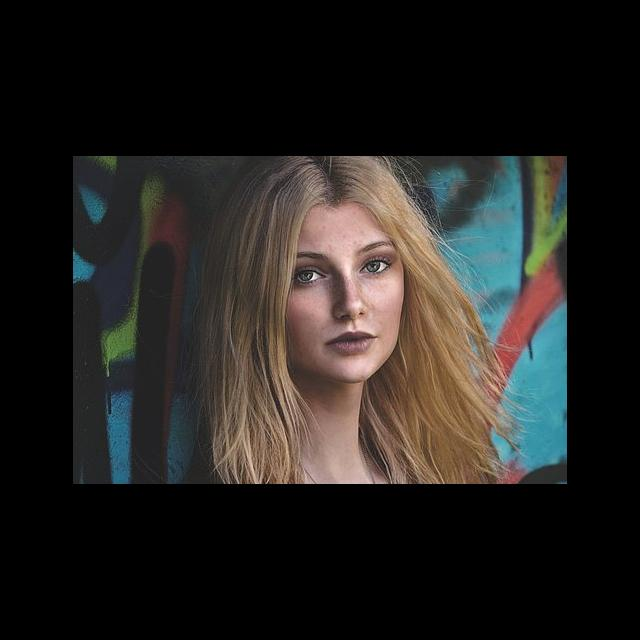female: (229, 159, 426, 370)
